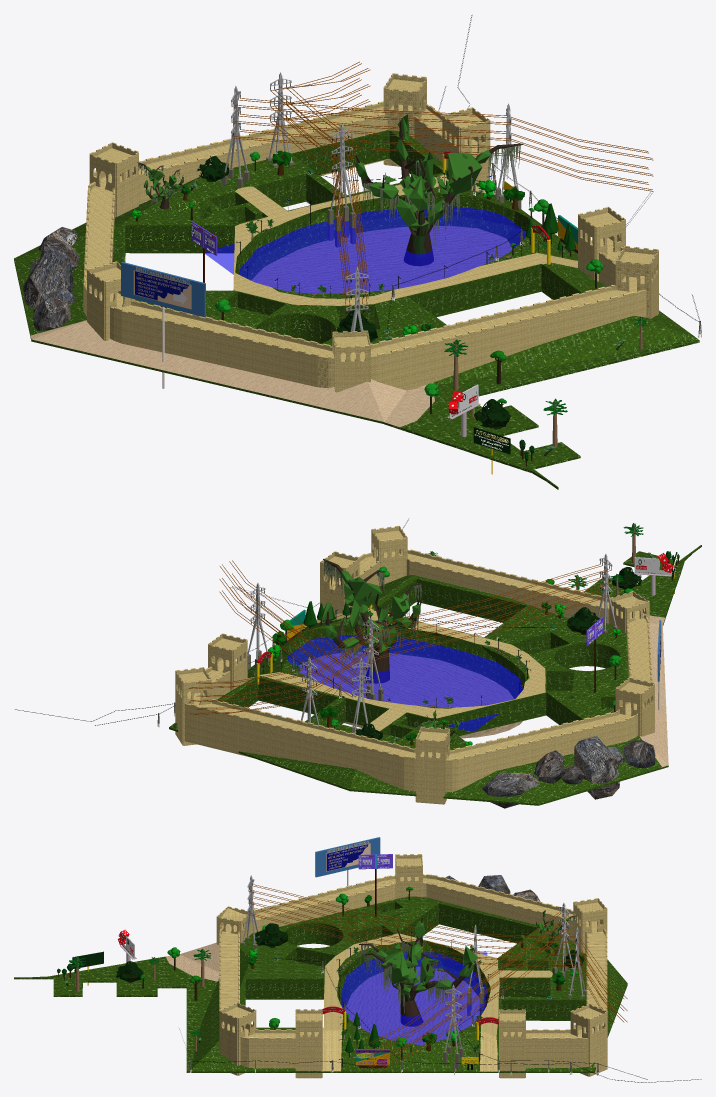
The model's file is Chinaville.glb.
3 renders of one model, top to bottom at view 1: azimuth 30°, elevation 25°; view 2: azimuth 150°, elevation 25°; view 3: azimuth 270°, elevation 25°, orthographic. The views are drawn at different scales.
Visible parts, largest first — view 1: Chinaville Ground, Great Wall, Pond Water, Towers, Leaves, Lake Bottom, Ground, Rocks, Trunk, Wires, Wires.001, Billboard.001 (+4 smaller); view 2: Chinaville Ground, Great Wall, Towers, Pond Water, Leaves, Lake Bottom, Wires.001, Rocks, Trunk, Ground, Wires, Elec.001 (+7 smaller); view 3: Chinaville Ground, Great Wall, Towers, Pond Water, Leaves, Ground, Lake Bottom, Wires.001, Trunk, Billboard.001, Wires, Wires.004 (+9 smaller).
Part boxes in pixels (x1,y1,x2,y2): Chinaville Ground: [14, 130, 697, 423]; Great Wall: [83, 101, 646, 390]; Pond Water: [202, 206, 525, 293]; Towers: [87, 73, 658, 392]; Leaves: [132, 114, 648, 460]; Lake Bottom: [251, 226, 511, 293]; Ground: [384, 339, 699, 489]; Rocks: [23, 227, 78, 330]; Trunk: [135, 121, 642, 466]; Wires: [232, 98, 510, 155]; Wires.001: [270, 61, 370, 314]; Billboard.001: [121, 262, 205, 317]; Chinaville Ground: [169, 575, 668, 805]; Great Wall: [184, 549, 652, 792]; Towers: [175, 525, 654, 804]; Pond Water: [287, 635, 522, 732]; Leaves: [251, 523, 679, 746]; Lake Bottom: [298, 652, 522, 738]; Wires.001: [189, 564, 611, 714]; Rocks: [482, 736, 655, 808]; Trunk: [251, 524, 678, 745]; Ground: [583, 545, 701, 625]; Wires: [251, 593, 369, 697]; Elec.001: [358, 617, 383, 701]; Chinaville Ground: [180, 896, 627, 1072]; Great Wall: [219, 874, 607, 1068]; Towers: [216, 854, 607, 1078]; Pond Water: [341, 952, 487, 1045]; Leaves: [57, 886, 584, 1052]; Ground: [14, 955, 219, 1072]; Lake Bottom: [345, 967, 479, 1044]; Wires.001: [248, 884, 627, 1022]; Trunk: [58, 890, 579, 1059]; Billboard.001: [315, 837, 380, 877]; Wires: [446, 912, 568, 1021]; Wires.004: [368, 996, 460, 1069].
Bounding box in the file's own units: 190 × 43.98 × 246.
94 materials, 4 textured.
